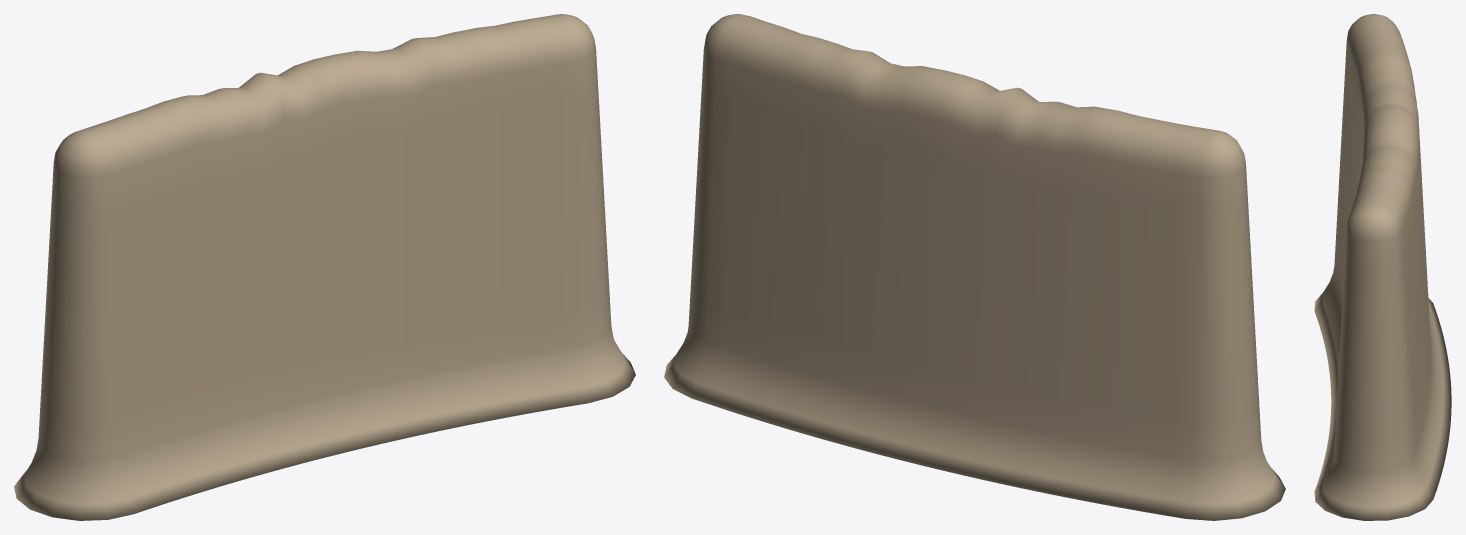
The model's file is KFB_Wall_curved_ring_r4_capAB.r1.glb.
The picture shows the model from 3 angles, left to right: view 1: azimuth 30°, elevation 25°; view 2: azimuth 150°, elevation 25°; view 3: azimuth 270°, elevation 25°; orthographic projection. The views are drawn at different scales.
Parts seen in each view (by area): view 1: KFB_Wall_curved_ring_r4_capAB; view 2: KFB_Wall_curved_ring_r4_capAB; view 3: KFB_Wall_curved_ring_r4_capAB.
Boxes of the visible parts, bbox=[...] form: KFB_Wall_curved_ring_r4_capAB: bbox=[14, 14, 635, 520]; KFB_Wall_curved_ring_r4_capAB: bbox=[664, 14, 1285, 520]; KFB_Wall_curved_ring_r4_capAB: bbox=[1314, 14, 1451, 520].
Bounding box in the file's own units: 6.34 × 3.64 × 1.54.
